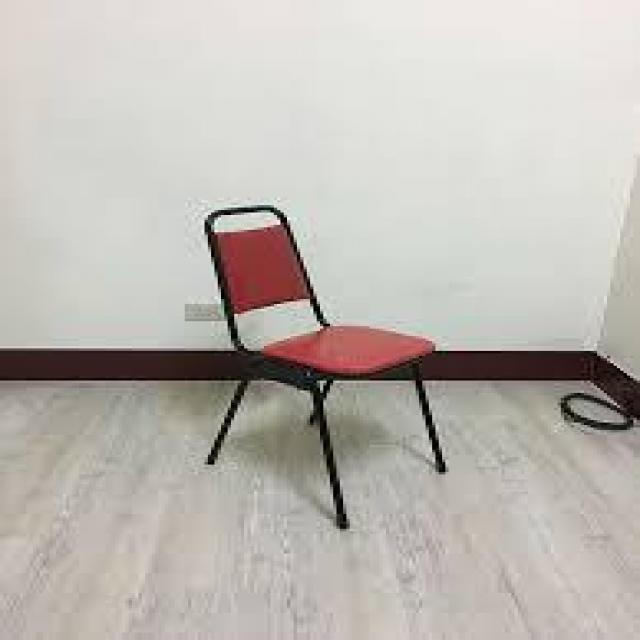chair: (106, 127, 475, 533)
